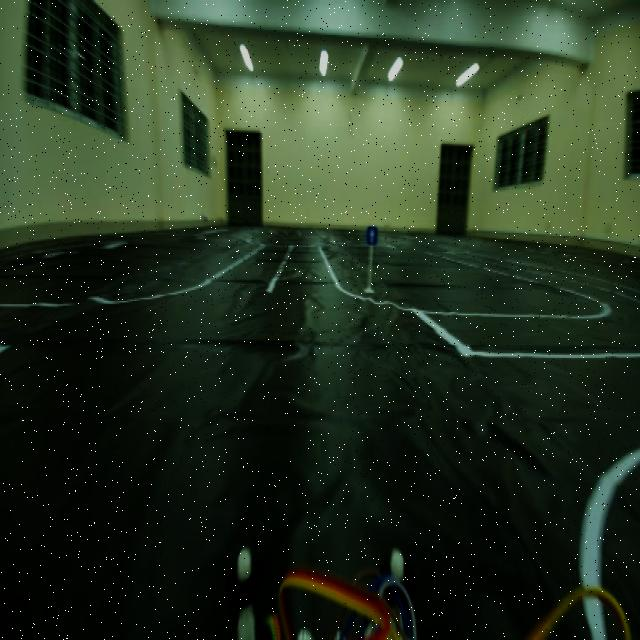onewayroad: (362, 219, 378, 251)
